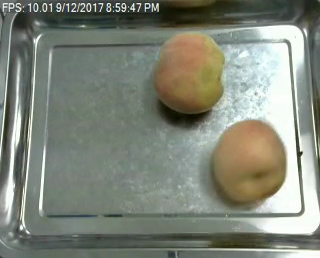Peach: (211, 118, 287, 203), (152, 29, 226, 114)
